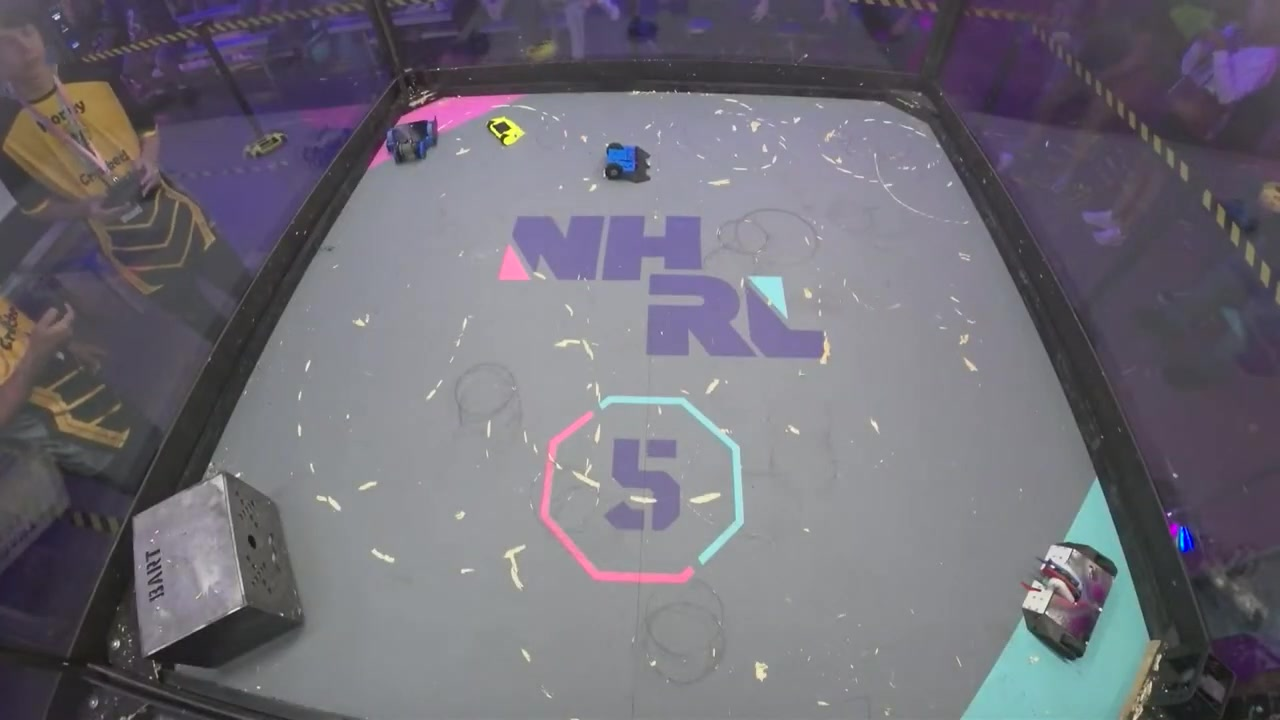combatbot: (1020, 540, 1118, 665), (385, 112, 440, 164)
housebot: (127, 472, 305, 666)
minibot: (602, 142, 654, 186), (484, 118, 527, 146)
